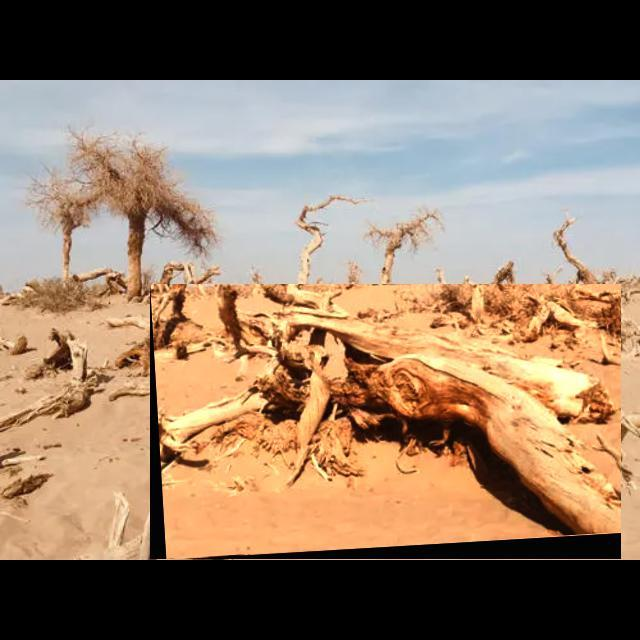fallen_tree: (150, 284, 622, 560)
